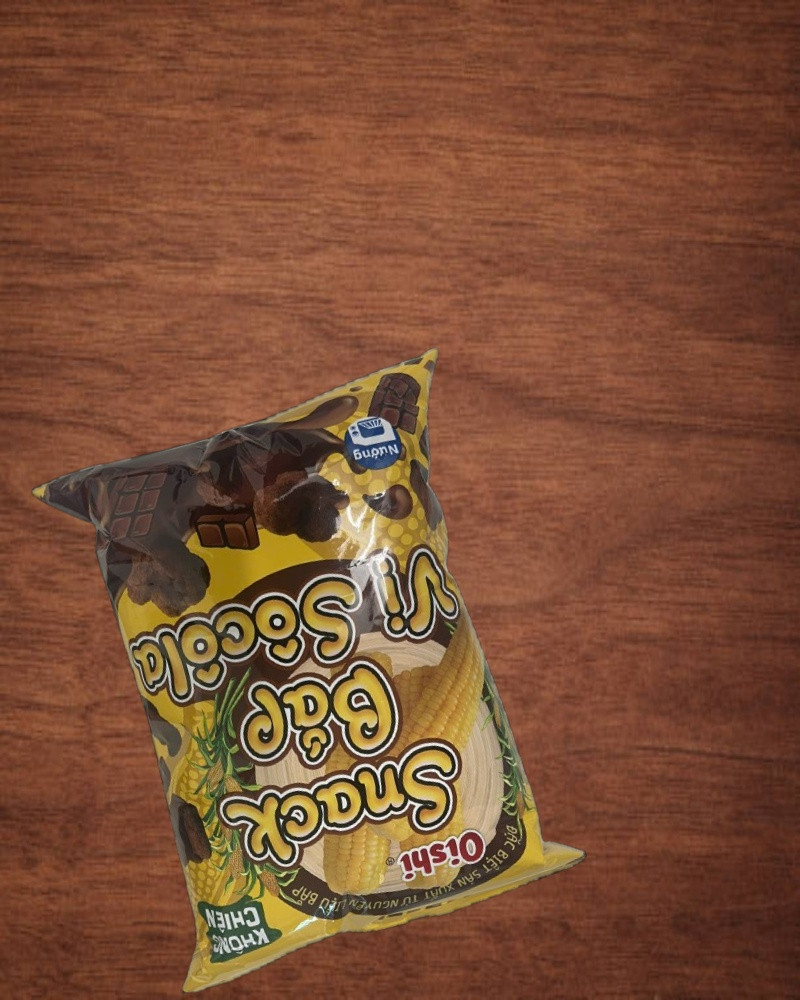Snack socola: (25, 347, 594, 998)
